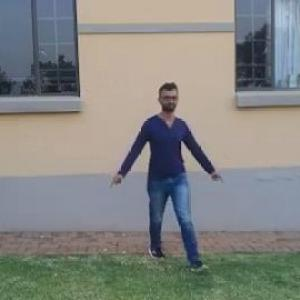land: (105, 84, 226, 266)
